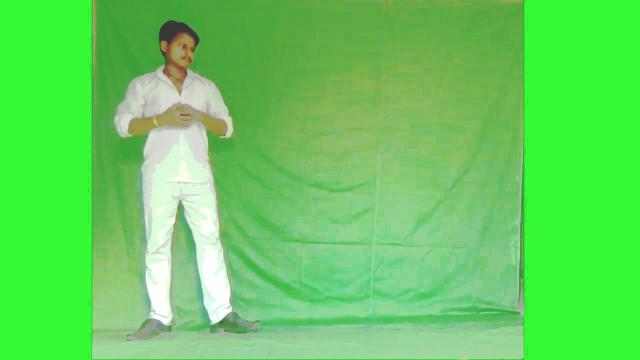berjalan: (116, 19, 258, 335)
